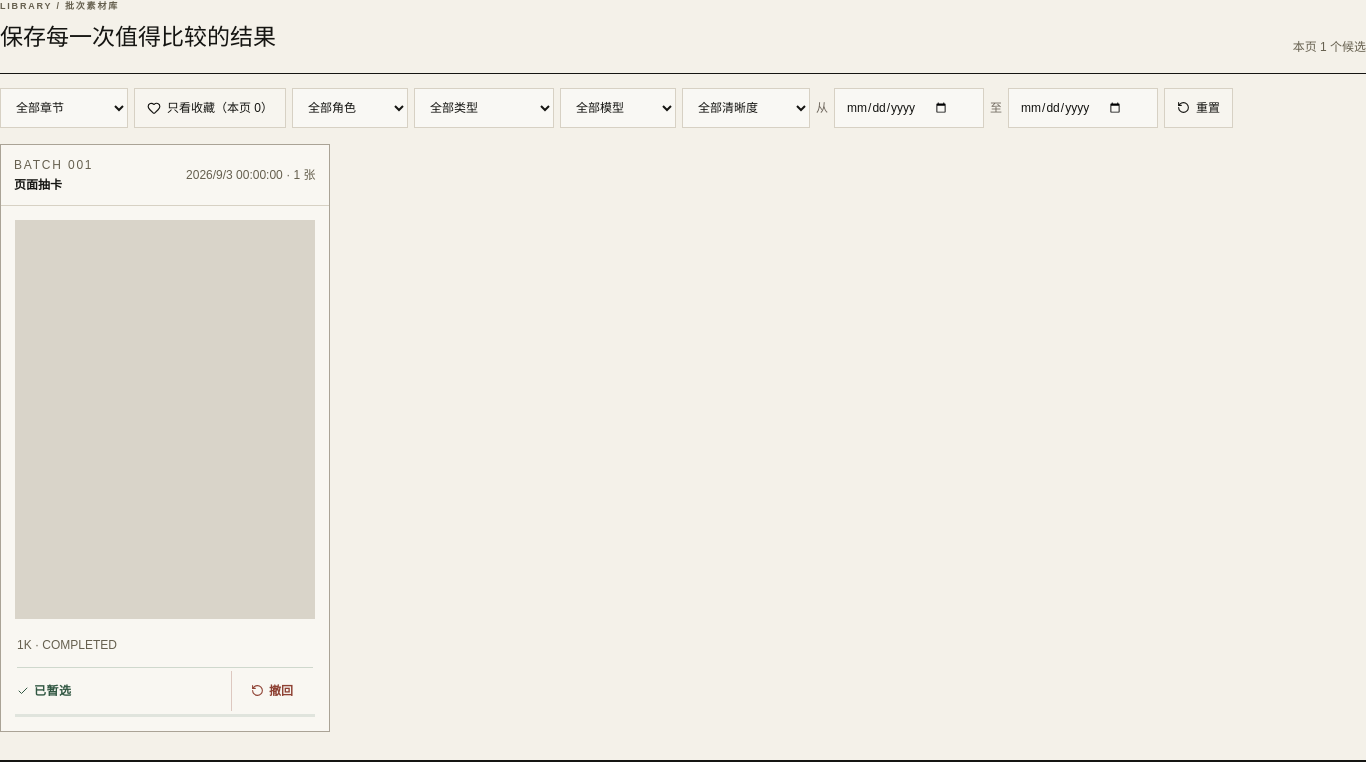
Scenario: LibrarySection 导出阻塞 › 撤回 409（候选已不是当前采用）时展示后端语义错误
Click the button "撤回" at (272, 690), box left=230, top=670, right=312, bottom=710
(page scrolled)
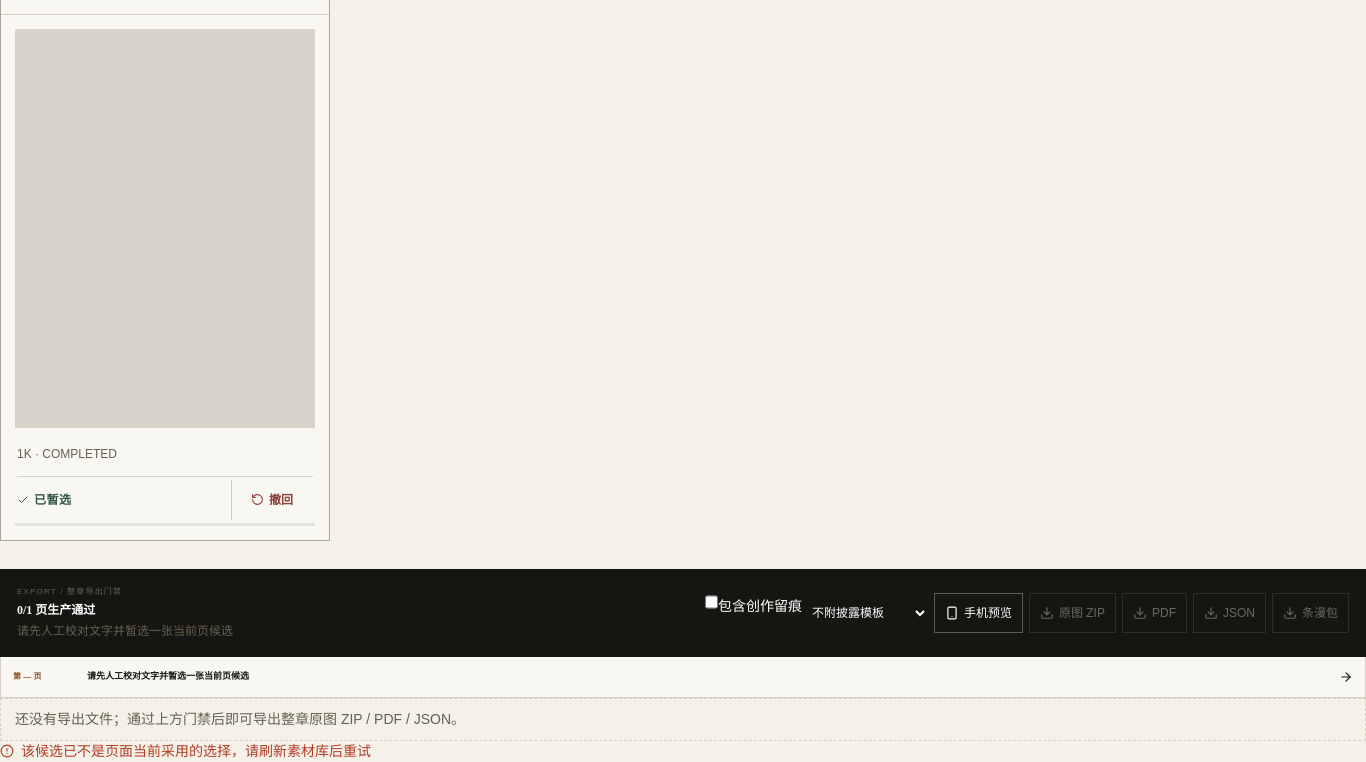
expect the text "该候选已不是页面当前采用的选择，请刷新素材库后重试" is shown: met, box left=0, top=743, right=371, bottom=759
